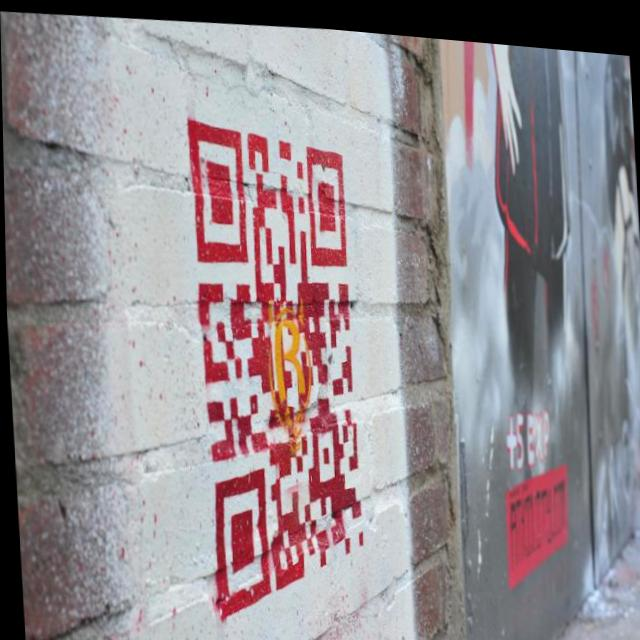qrcode: (187, 109, 366, 629)
